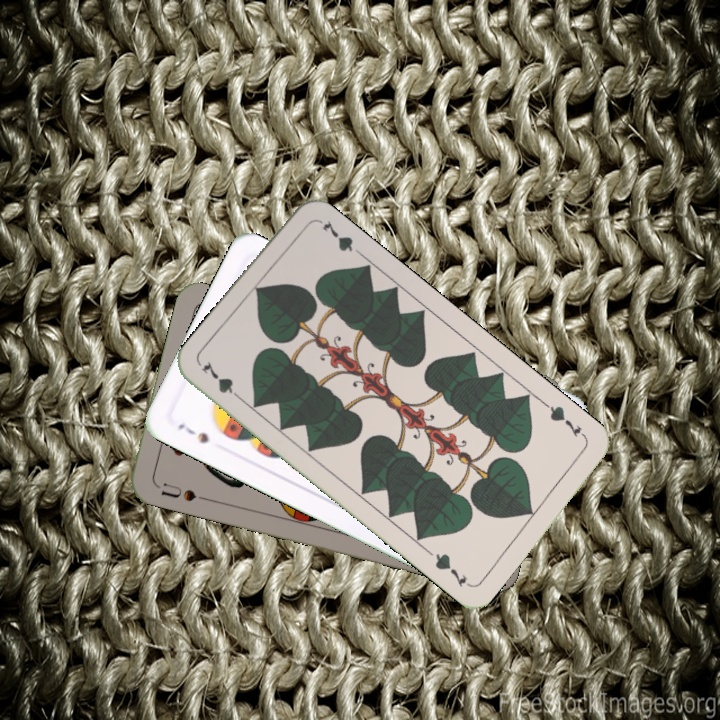G7: (198, 357, 246, 405), (540, 399, 589, 442)
S7: (173, 419, 211, 447)
SU: (153, 478, 211, 505)
